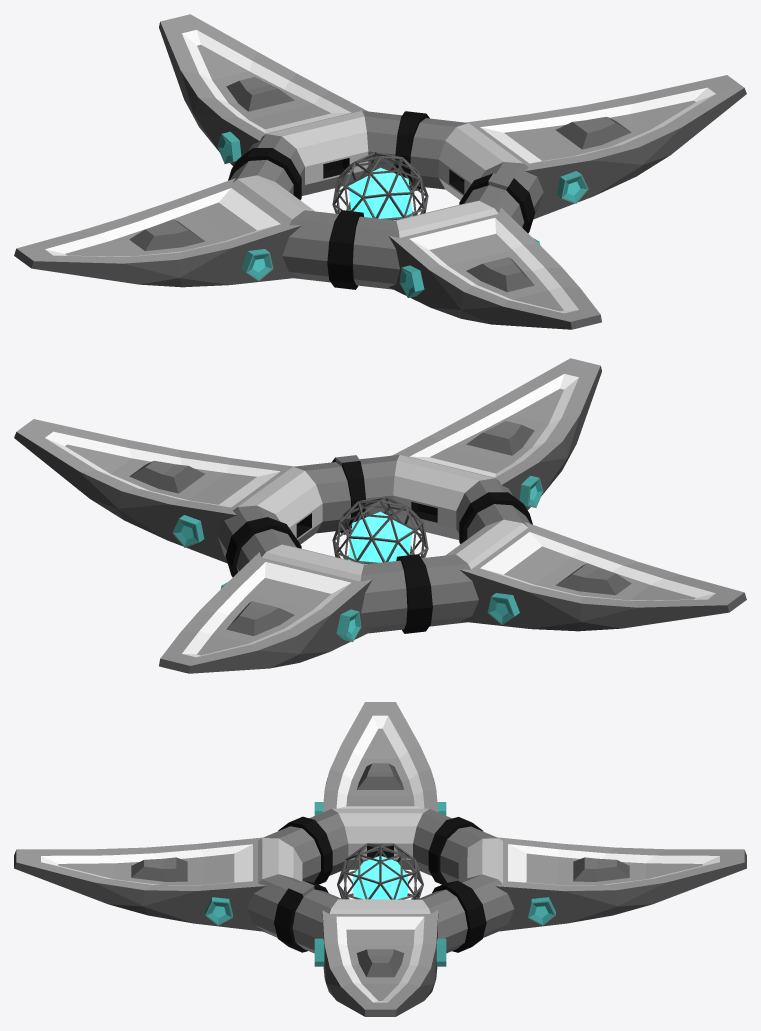
The model's file is GravityPadModel.fbx.
3 views of the same model, one above another, from view 1: azimuth 30°, elevation 25°; view 2: azimuth 150°, elevation 25°; view 3: azimuth 270°, elevation 25° (orthographic). The views are drawn at different scales.
Visible parts, largest first — view 1: Teleporter; view 2: Teleporter; view 3: Teleporter.
Boxes of the visible parts, left/top/right/bottom form: Teleporter: left=14, top=14, right=746, bottom=329; Teleporter: left=14, top=358, right=746, bottom=673; Teleporter: left=14, top=702, right=746, bottom=1016.
Size of the model in its own units: 511 by 60.79 by 511.
